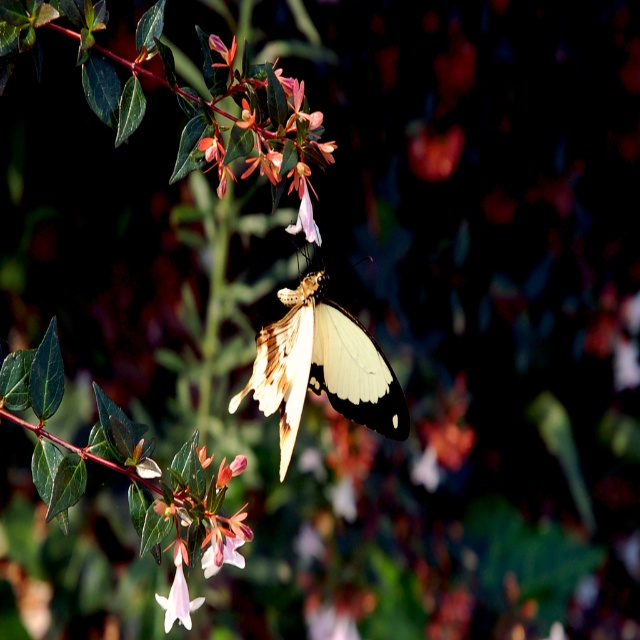Butterfly: (228, 214, 412, 483)
